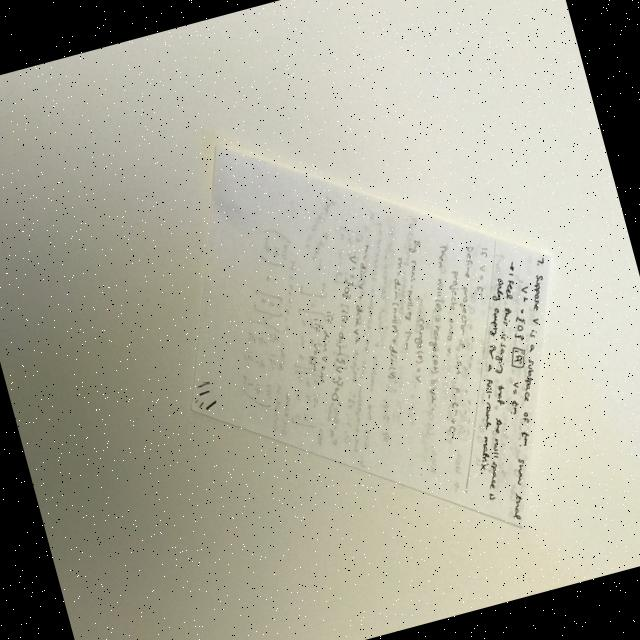paper: (123, 60, 618, 602)
